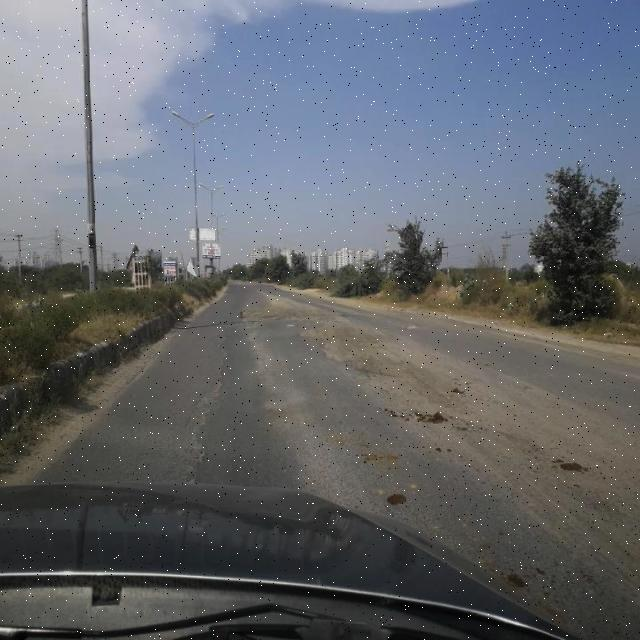D00: (185, 327, 239, 485)
D40: (297, 329, 386, 371), (226, 300, 357, 326)
